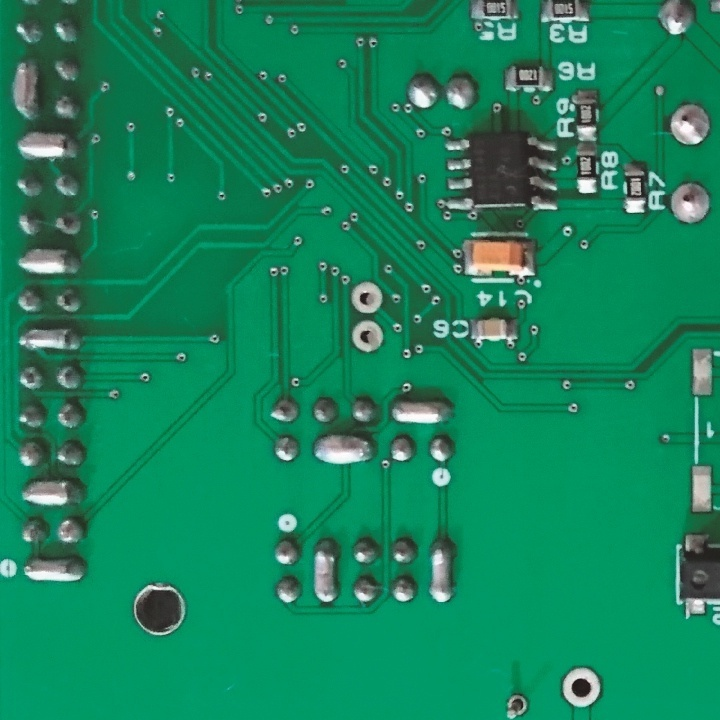F: (665, 98, 713, 151), (668, 179, 713, 226), (559, 665, 601, 708), (347, 280, 384, 316), (349, 318, 385, 355), (502, 691, 527, 720)
P: (311, 431, 376, 469), (16, 243, 81, 280), (14, 126, 81, 161), (17, 476, 90, 508), (387, 394, 450, 431), (16, 322, 84, 356), (427, 535, 460, 605), (19, 553, 88, 584), (311, 535, 339, 607), (9, 58, 40, 122)
